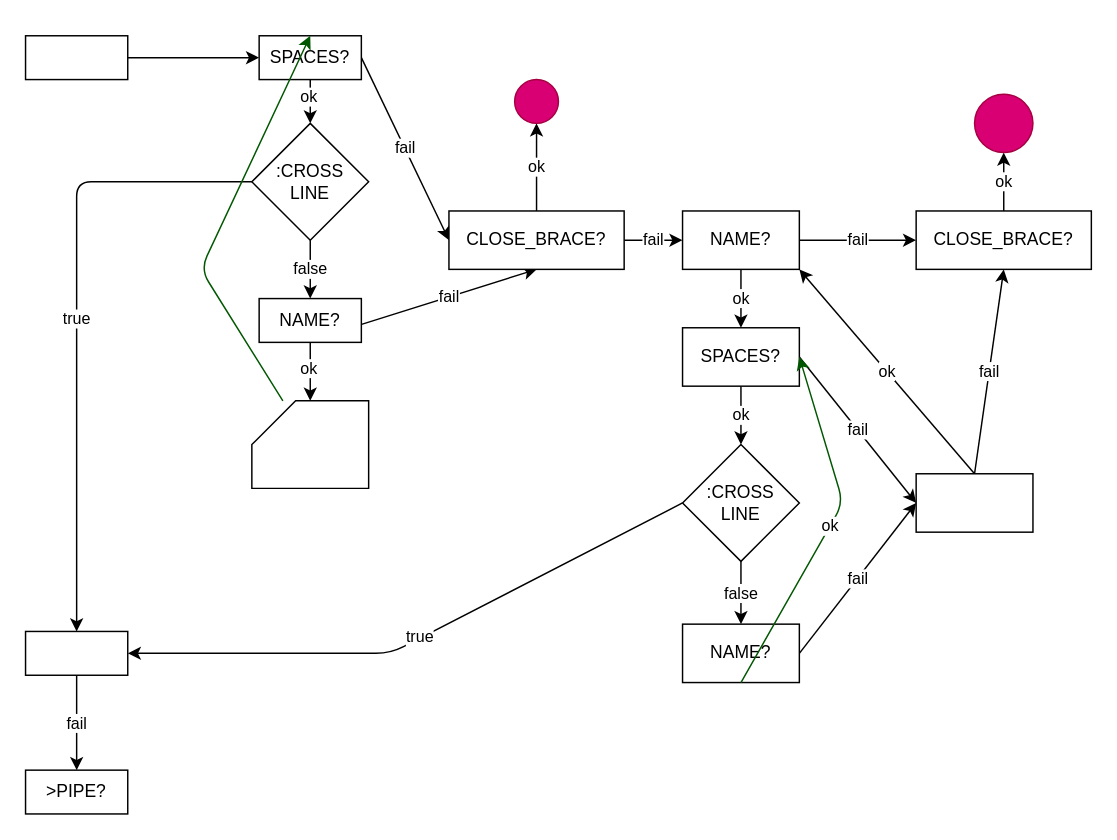
The diagram is 1117 pixels wide and 840 high, and some of its shapes have lost their labels. Each missing label, with the centre of its shape:
:ARGS <<: point (309, 443)
>NAME?: point (76, 652)
COLON?: point (974, 502)
NAME!: point (76, 57)
